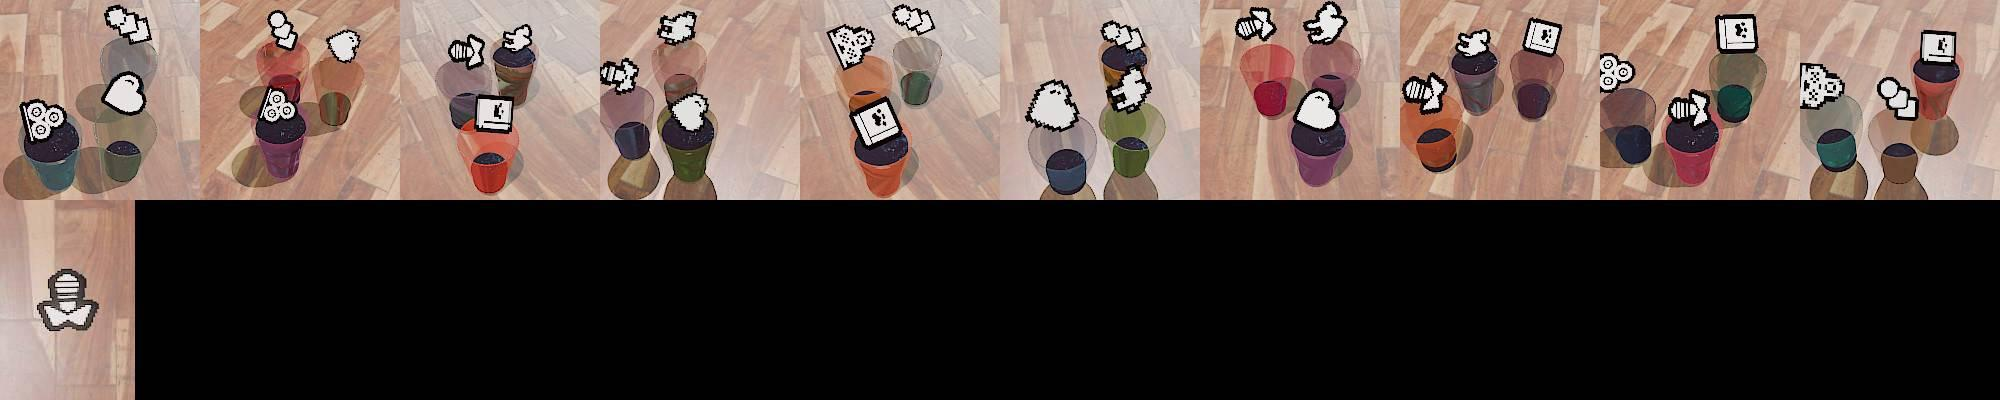icon: (34, 266, 99, 330), (849, 96, 905, 150), (1024, 78, 1080, 131), (826, 22, 876, 70), (1292, 86, 1343, 132), (20, 98, 68, 145), (1798, 62, 1844, 110), (1107, 66, 1151, 114), (101, 71, 148, 115), (103, 4, 153, 45), (1302, 1, 1348, 45), (1402, 74, 1450, 116), (1877, 74, 1920, 120), (1715, 13, 1760, 53), (1521, 18, 1563, 59), (669, 92, 711, 132), (1097, 19, 1145, 53), (1667, 88, 1712, 124), (474, 94, 515, 133), (1598, 52, 1636, 94), (599, 56, 640, 94), (657, 10, 699, 45), (1236, 6, 1276, 42), (891, 4, 935, 36), (266, 9, 298, 52), (448, 33, 486, 69), (260, 87, 298, 122), (325, 28, 361, 64), (1919, 31, 1958, 64), (1454, 27, 1493, 59), (500, 22, 533, 54)
